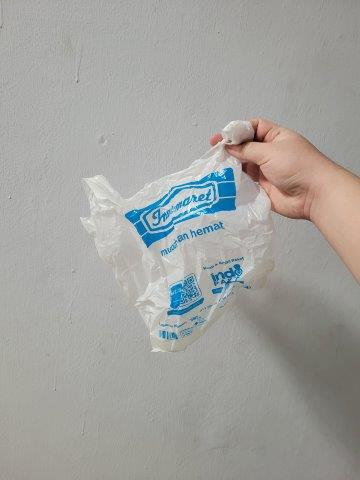plastik: (79, 120, 275, 364)
